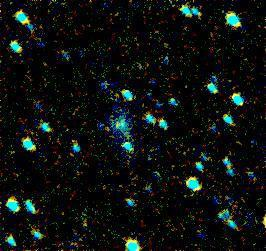star: (99, 112, 129, 142)
